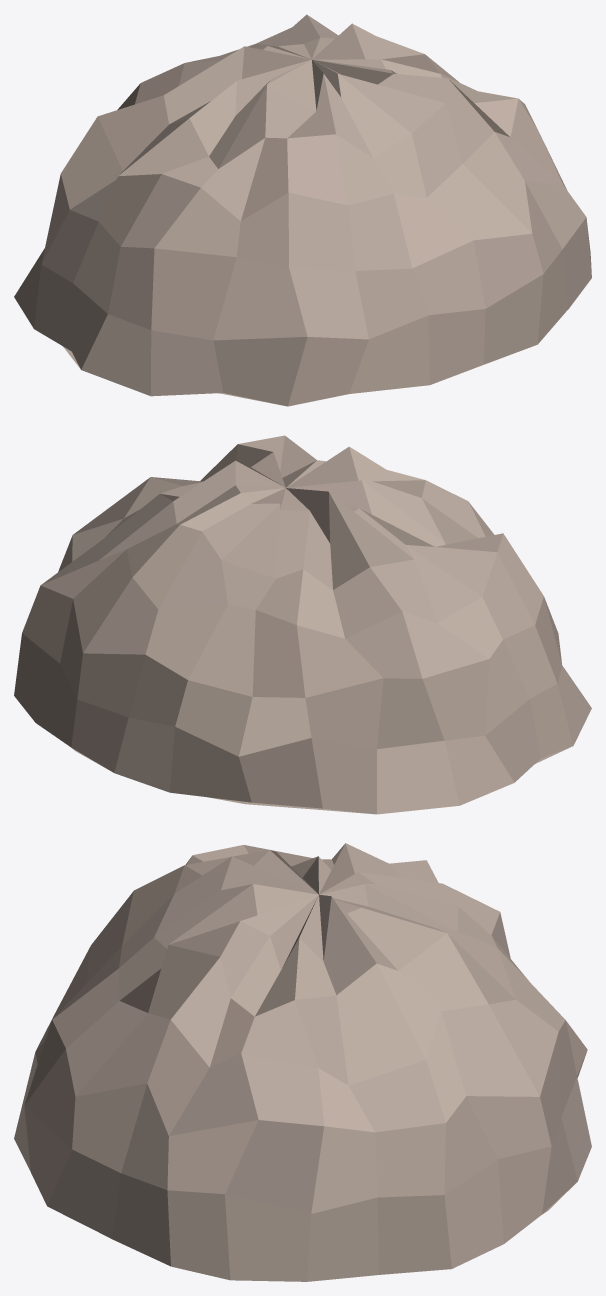
File: heap_paper.fbx
3 views of the same model, one above another, from view 1: azimuth 30°, elevation 25°; view 2: azimuth 150°, elevation 25°; view 3: azimuth 270°, elevation 25° (orthographic). The views are drawn at different scales.
Parts seen in each view (by area): view 1: heap_paper; view 2: heap_paper; view 3: heap_paper.
Part boxes in pixels (bbox=[...]): heap_paper: bbox=[14, 14, 591, 406]; heap_paper: bbox=[14, 435, 591, 814]; heap_paper: bbox=[14, 843, 591, 1281].
Size of the model in its own units: 2.99 by 1.38 by 2.61.
